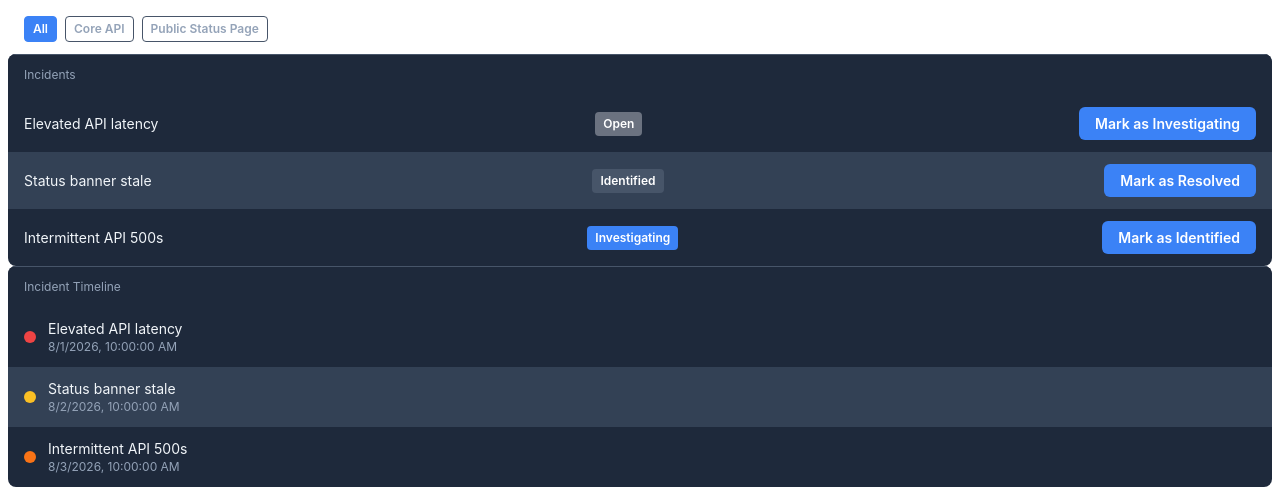
Test case: component filter shared state (IncidentList + Timeline) › selecting a component filters both the incident list and the timeline in the same interaction
Click the button with test id "component-filter-option-comp-api" at (99, 29), box x1=65 y1=16 x2=134 y2=42
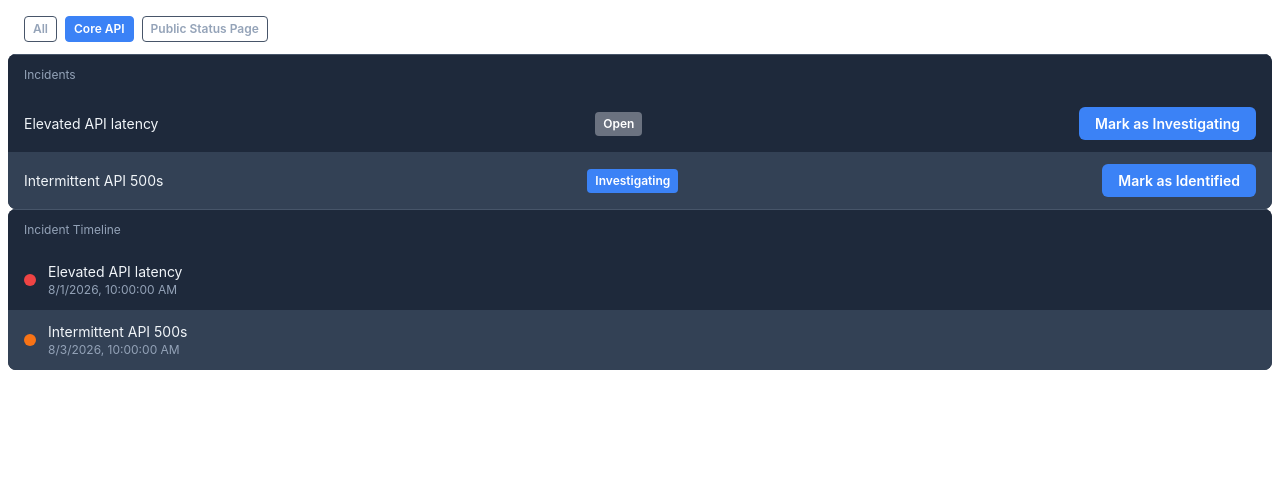
Expected: the number of elements with test id "incident-list-item" is 2, x1=24 y1=107 x2=1256 y2=140; x1=8 y1=152 x2=1272 y2=209
Expected: the text "Status banner stale" is gone
Expected: the number of elements with test id "timeline-entry" is 2, x1=24 y1=263 x2=182 y2=297; x1=8 y1=310 x2=1272 y2=370
